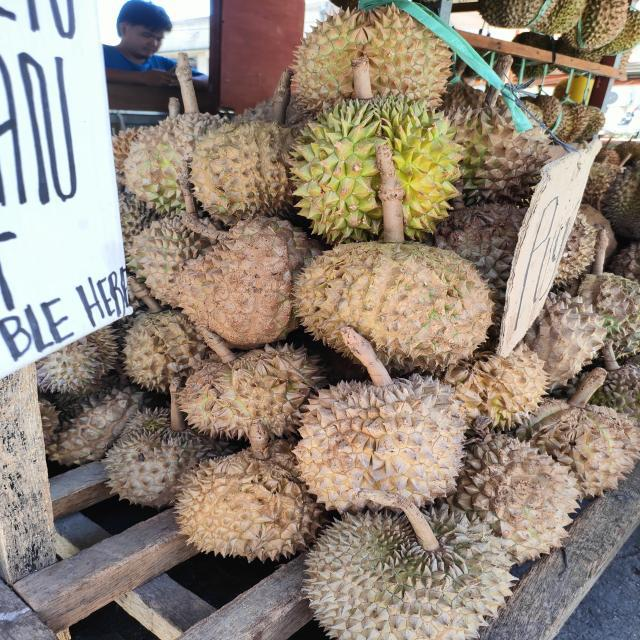mature: (292, 240, 497, 374), (294, 374, 468, 516), (164, 215, 329, 353), (169, 439, 333, 565), (431, 432, 581, 567), (284, 2, 457, 118), (174, 340, 331, 438), (102, 404, 240, 510), (189, 119, 299, 223)
